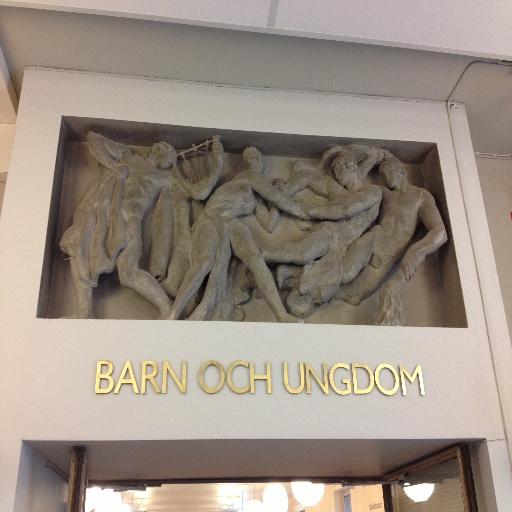hand: (398, 244, 420, 280), (113, 160, 130, 181), (209, 141, 224, 162), (296, 204, 313, 222), (368, 147, 384, 165), (292, 197, 310, 212), (275, 182, 287, 195), (272, 176, 285, 186)
